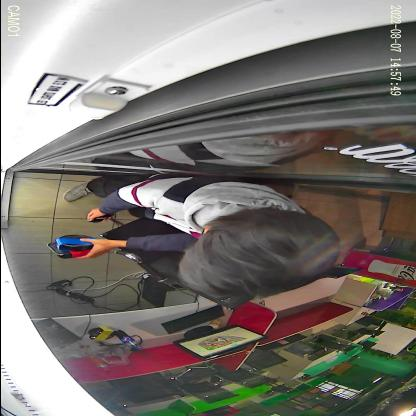blue: (54, 234, 96, 252)
red: (46, 242, 92, 258)
